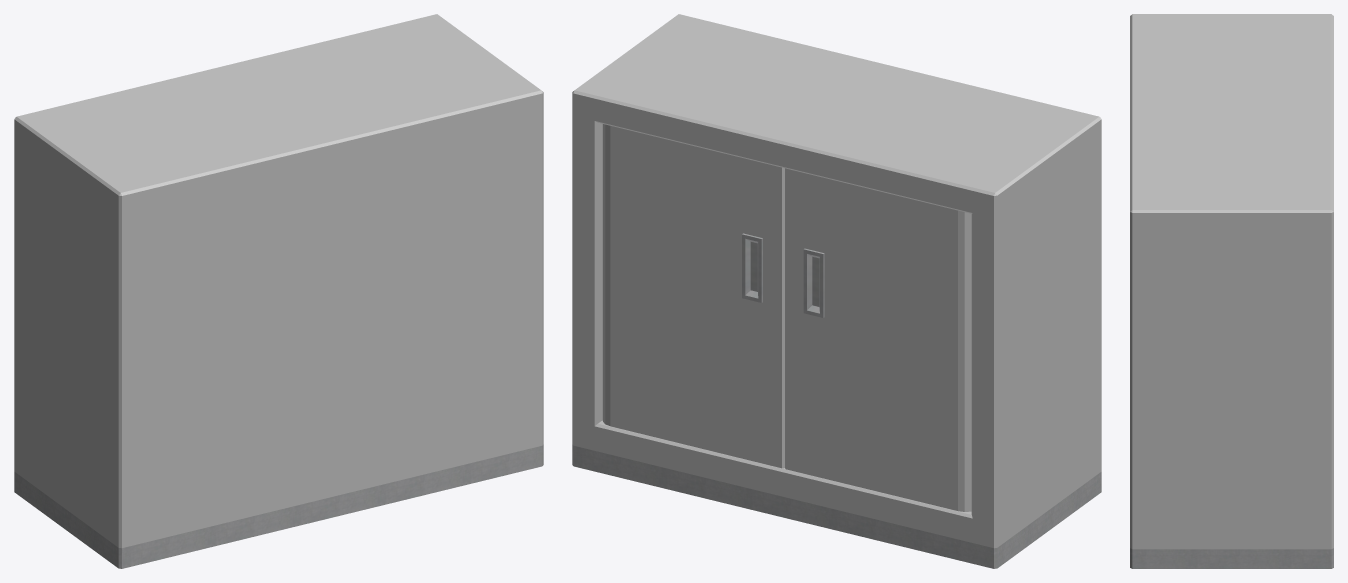
File: cabinet.FBX
3 views of the same model, side by side, from view 1: azimuth 30°, elevation 25°; view 2: azimuth 150°, elevation 25°; view 3: azimuth 270°, elevation 25° (orthographic). The views are drawn at different scales.
Parts seen in each view (by area): view 1: cabinet; view 2: cabinet; view 3: cabinet.
Boxes of the visible parts, <box> form: cabinet: <box>14,14,543,568</box>; cabinet: <box>572,14,1101,568</box>; cabinet: <box>1130,14,1333,568</box>.
Bounding box in the file's own units: 1 × 0.8437 × 0.435.
